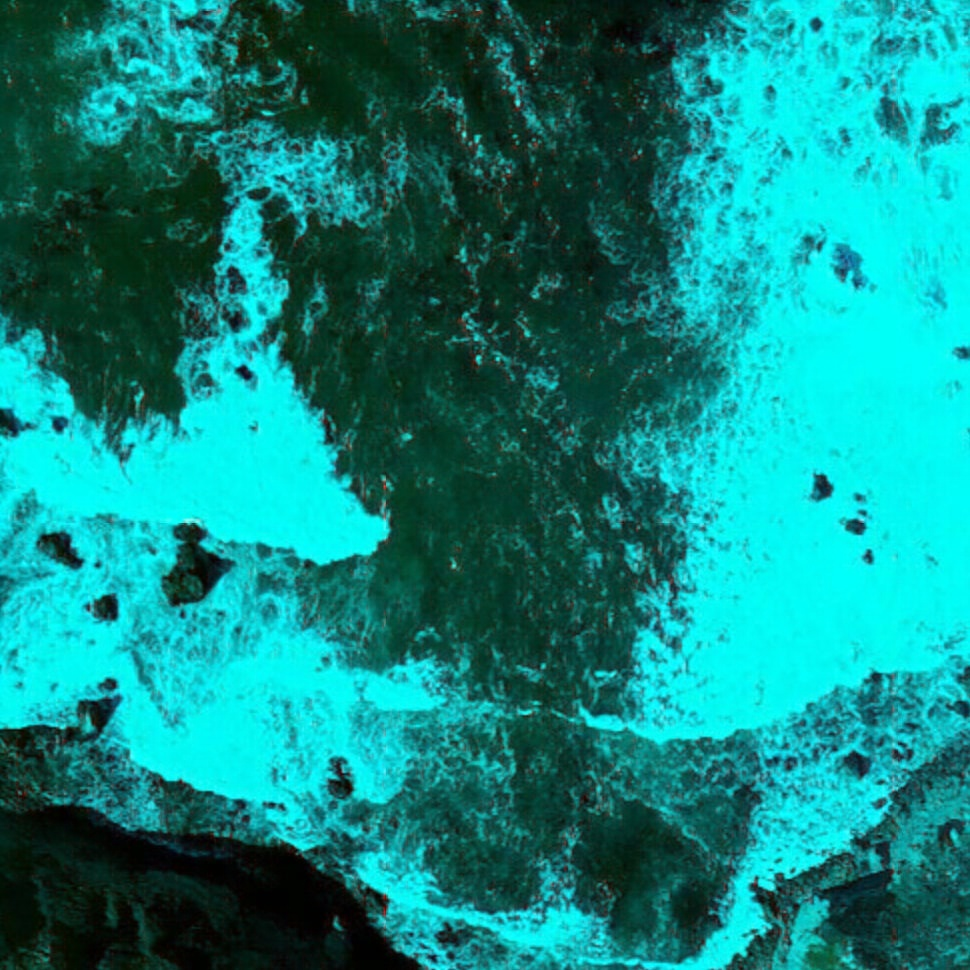rip_current: (217, 93, 706, 740)
